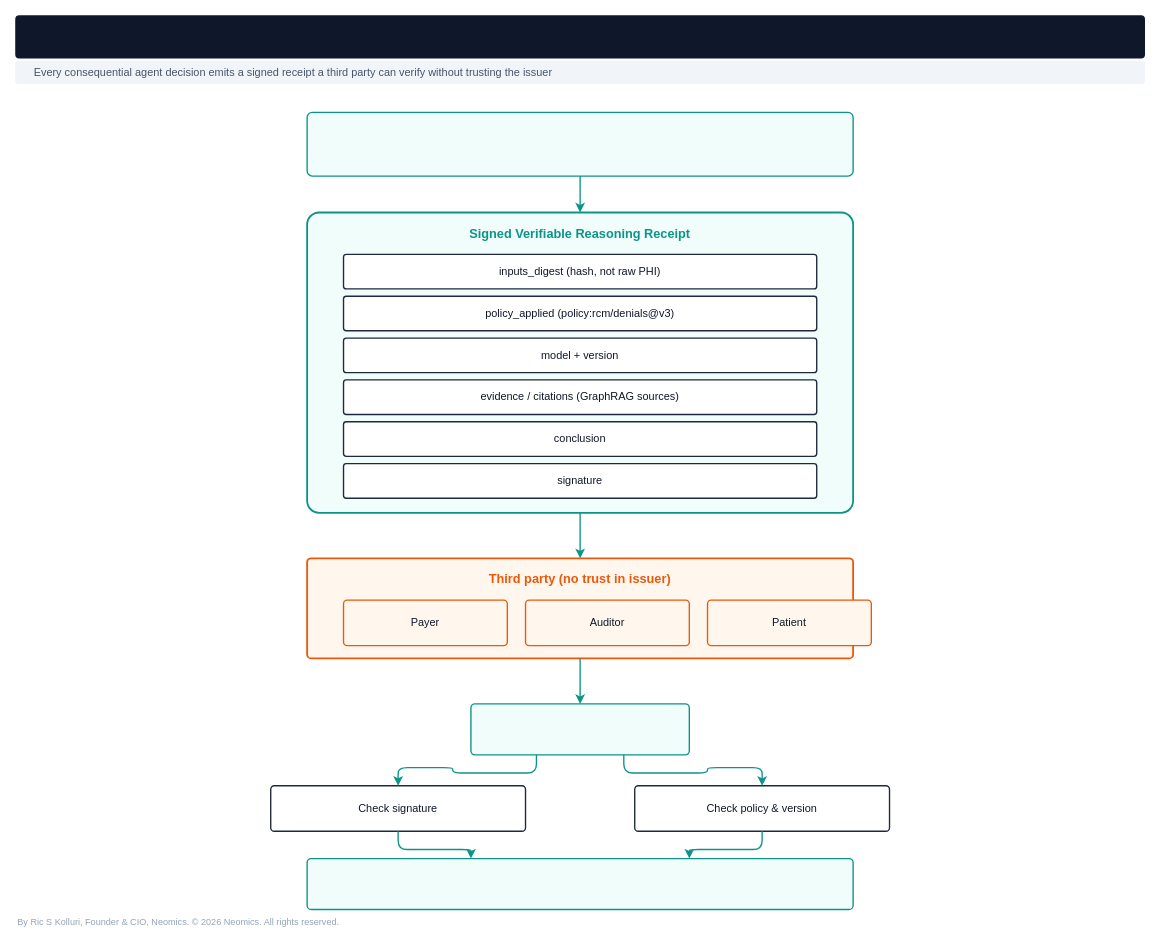
The diagram is 1161 pixels wide and 947 high, and some of its shapes have lost their labels. The shapes that lost their labels are listed below. From the top down, each one's centre as x and y in pixels, then its label:
At pixel 580 36: "HARP — Receipt Verification".
At pixel 579 143: "Consequential agent action code chosen · denial appealed · balance settled".
At pixel 580 729: "Verify at verify_uri".
At pixel 579 883: "Provable, portable, machine-checkable justification".
